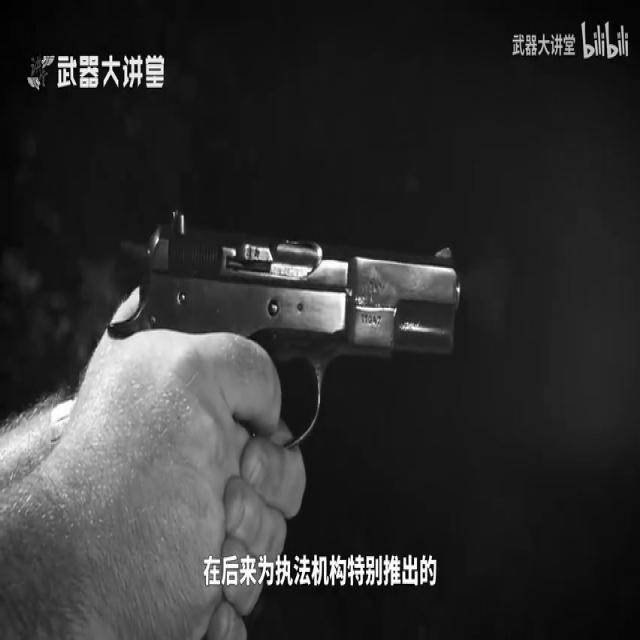Hand-Gun: (118, 202, 471, 395)
